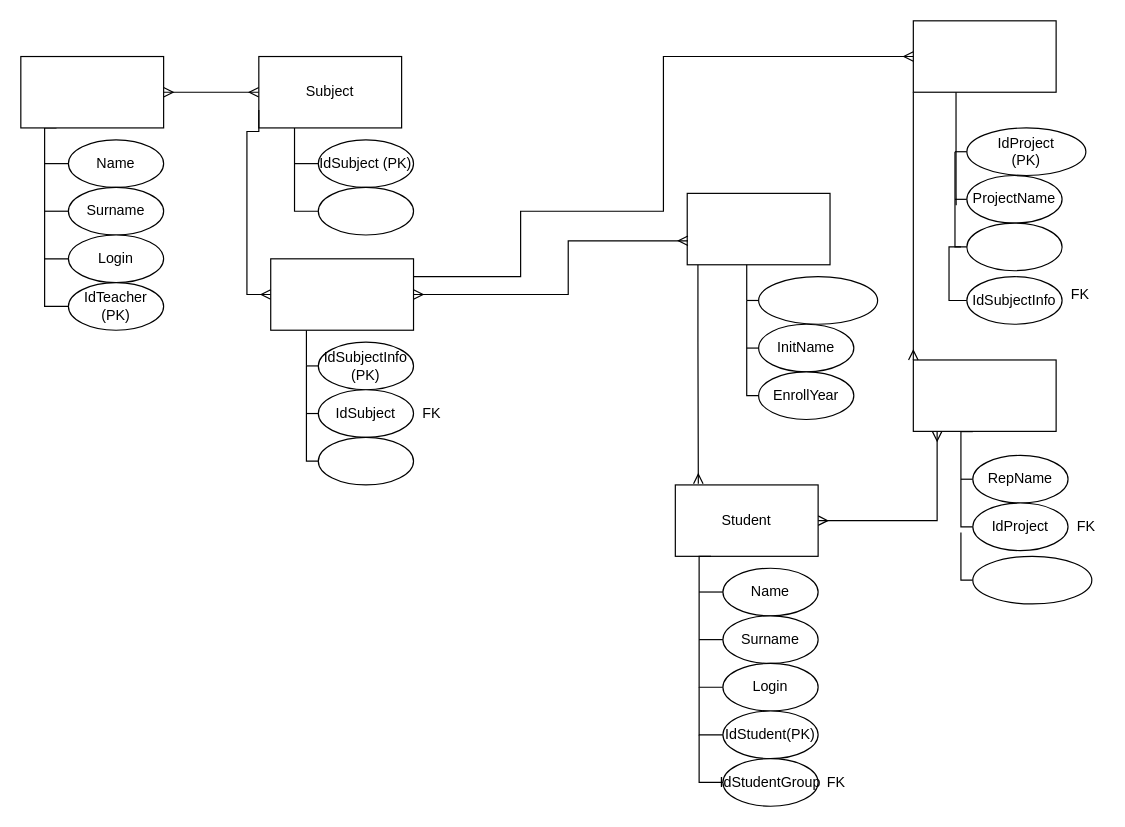
Some shapes in this 1125 by 827 pixel diagram are drawn without their labels. Here are the shapes that lost their labels. From the top down, the centre of each, then its label:
At point 984,56: "Project".
At point 92,91: "Teacher".
At point 365,210: "SubjectName".
At point 758,228: "StudentGroup".
At point 1014,246: "IsLab".
At point 342,294: "SubjectInfo".
At point 817,299: "IdStudentGroup (PK)".
At point 984,395: "Repository".
At point 365,460: "IdAcademicYear".
At point 1032,579: "IdRepository(PK)".
